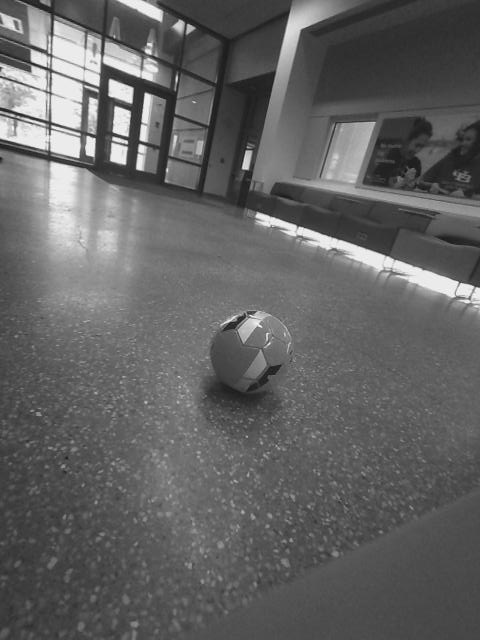ball: (256, 184, 279, 206)
